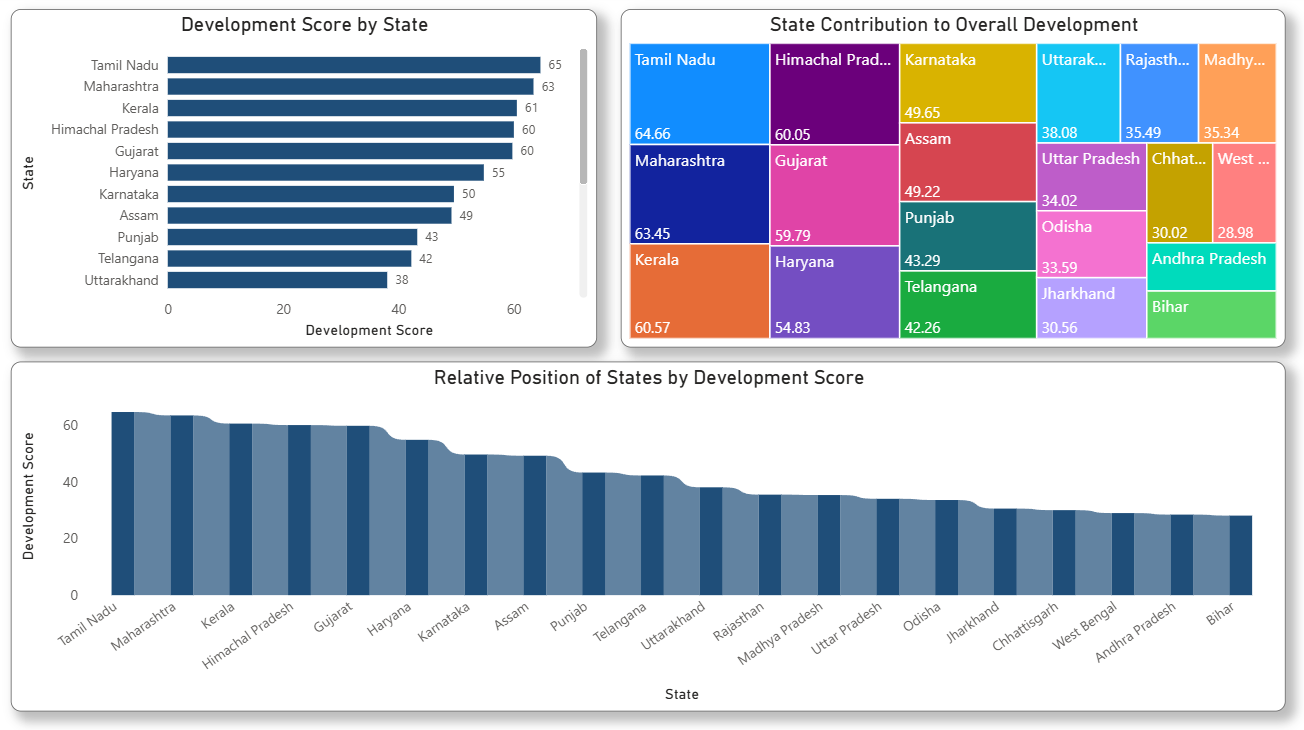

The dashboard page shown, as its layout file describes it:
{"tool":"powerbi","page":{"name":"Regional Development Analysis","canvas":[1280,720],"ordinal":2},"visuals":[{"type":"clusteredBarChart","title":"Development Score by State","fields":{"Category":["Master_Data.State"],"Y":["Master_Data.Development Score (M)"]},"box":[13.5,14.7,573.5,331.4],"z":0},{"type":"treemap","title":"State Contribution to Overall Development","fields":{"Group":["Master_Data.State"],"Values":["Master_Data.Development Score (M)"]},"box":[610.2,14.7,650.5,331.4],"z":1000},{"type":"ribbonChart","title":"Relative Position of States by Development Score","fields":{"Y":["Master_Data.Development Score (M)"],"Category":["Master_Data.State"]},"box":[13.5,359.5,1247.3,342.4],"z":2000}]}

Visuals, with their boxes in screenshot pixels (x1, y1, x2, y2), scaled from the page's 1280x720 canvas onto the 1304x730 screenshot:
"Development Score by State" clusteredBarChart: {"left": 14, "top": 15, "right": 598, "bottom": 351}
"State Contribution to Overall Development" treemap: {"left": 622, "top": 15, "right": 1284, "bottom": 351}
"Relative Position of States by Development Score" ribbonChart: {"left": 14, "top": 364, "right": 1284, "bottom": 712}
